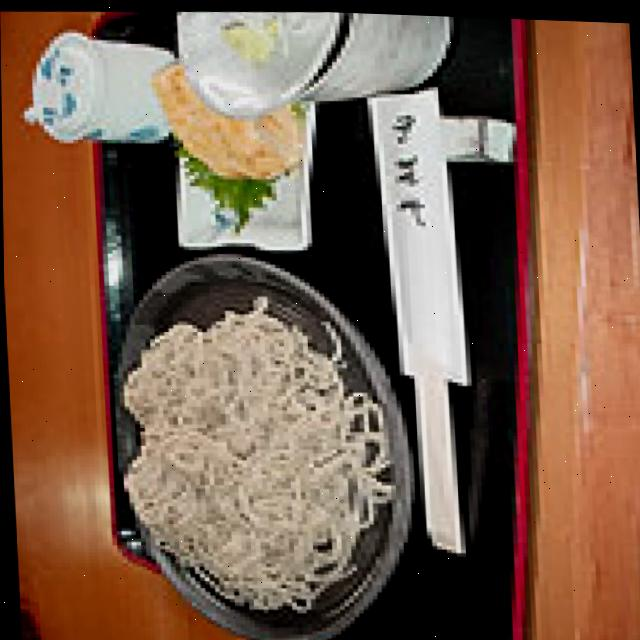面条主食: (86, 232, 443, 640)
